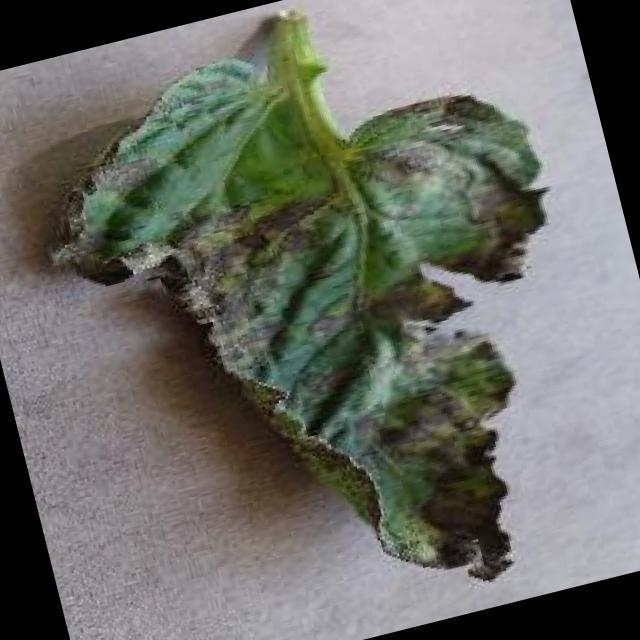Tomato Early blight leaf: (17, 0, 634, 640)
